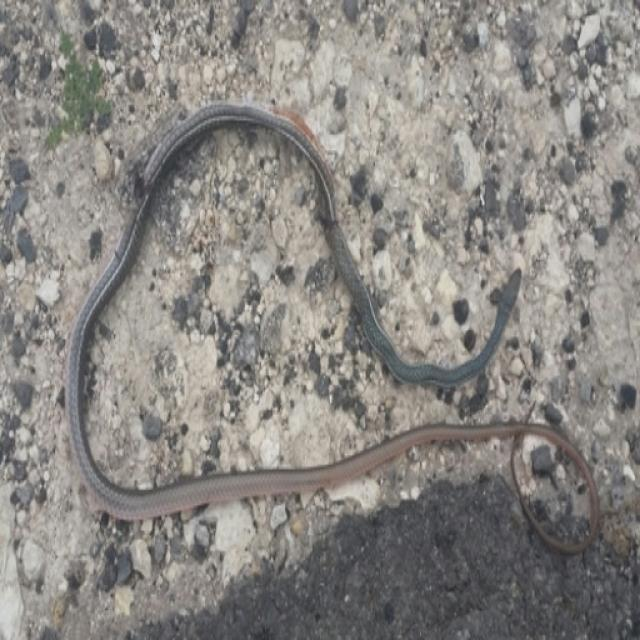snake: (65, 77, 618, 561)
